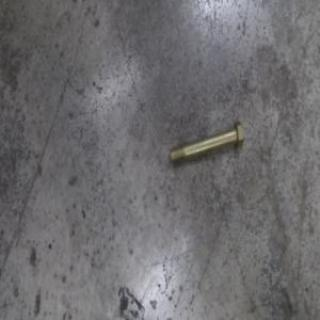Bolttrack_idkeyframe: (168, 118, 243, 166)
